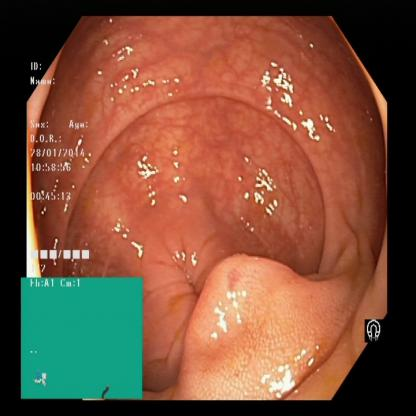Labels: (20, 277, 145, 400), (28, 62, 98, 276), (361, 311, 383, 343)
Polyps: (188, 251, 302, 348)
